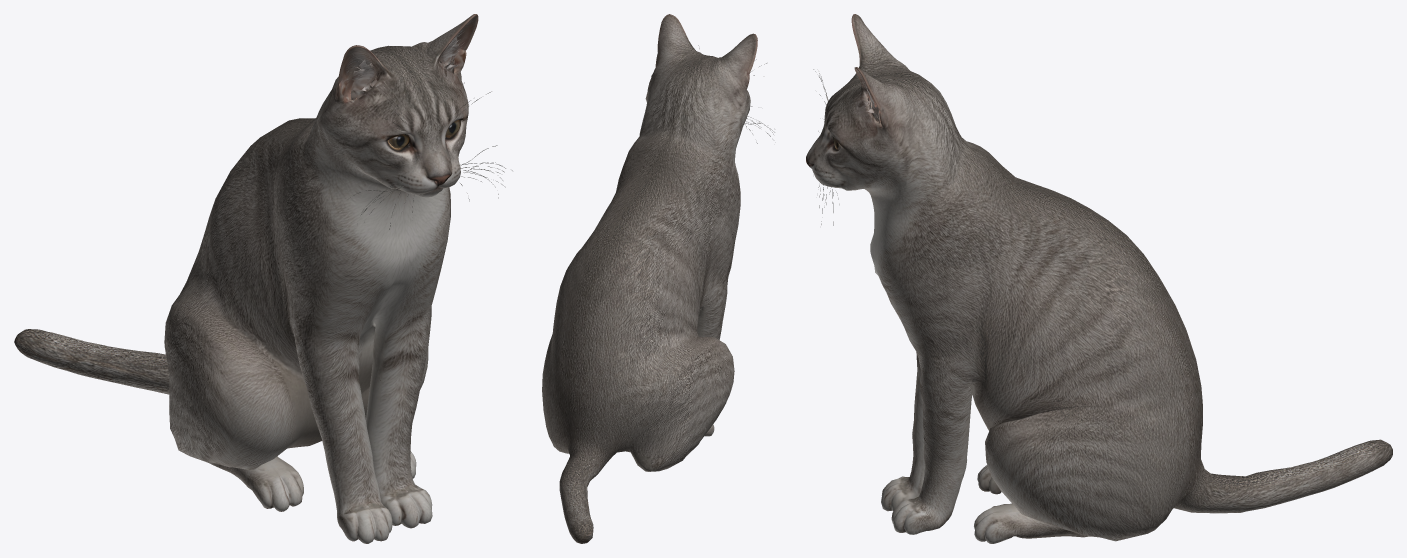
The model's file is sitting-v1.glb.
3 views of the same model, side by side, from view 1: azimuth 30°, elevation 25°; view 2: azimuth 150°, elevation 25°; view 3: azimuth 270°, elevation 25° (orthographic). The views are drawn at different scales.
Visible parts, largest first — view 1: tripo_91b98c78_a198_4c3e_ae71_f9d497d05fe8; view 2: tripo_91b98c78_a198_4c3e_ae71_f9d497d05fe8; view 3: tripo_91b98c78_a198_4c3e_ae71_f9d497d05fe8.
Part boxes in pixels (bbox=[...]): tripo_91b98c78_a198_4c3e_ae71_f9d497d05fe8: bbox=[14, 14, 512, 543]; tripo_91b98c78_a198_4c3e_ae71_f9d497d05fe8: bbox=[542, 14, 774, 543]; tripo_91b98c78_a198_4c3e_ae71_f9d497d05fe8: bbox=[806, 14, 1392, 543].
Size of the model in its own units: 0.4116 by 0.896 by 0.9995.
1 material, 1 textured.
